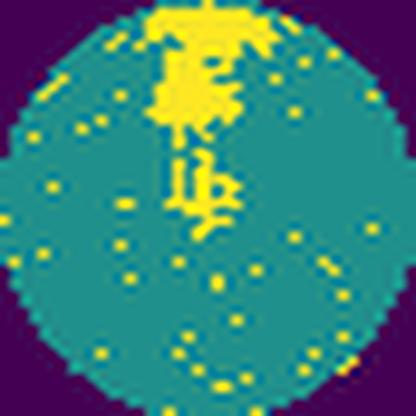Loc: (138, 6, 283, 150), (162, 145, 248, 243)
